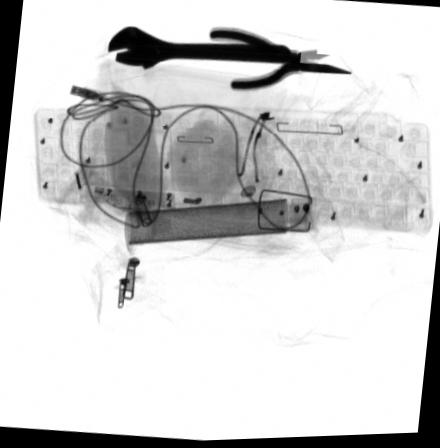Pliers: (207, 27, 352, 92)
Wrench: (106, 26, 294, 70)
